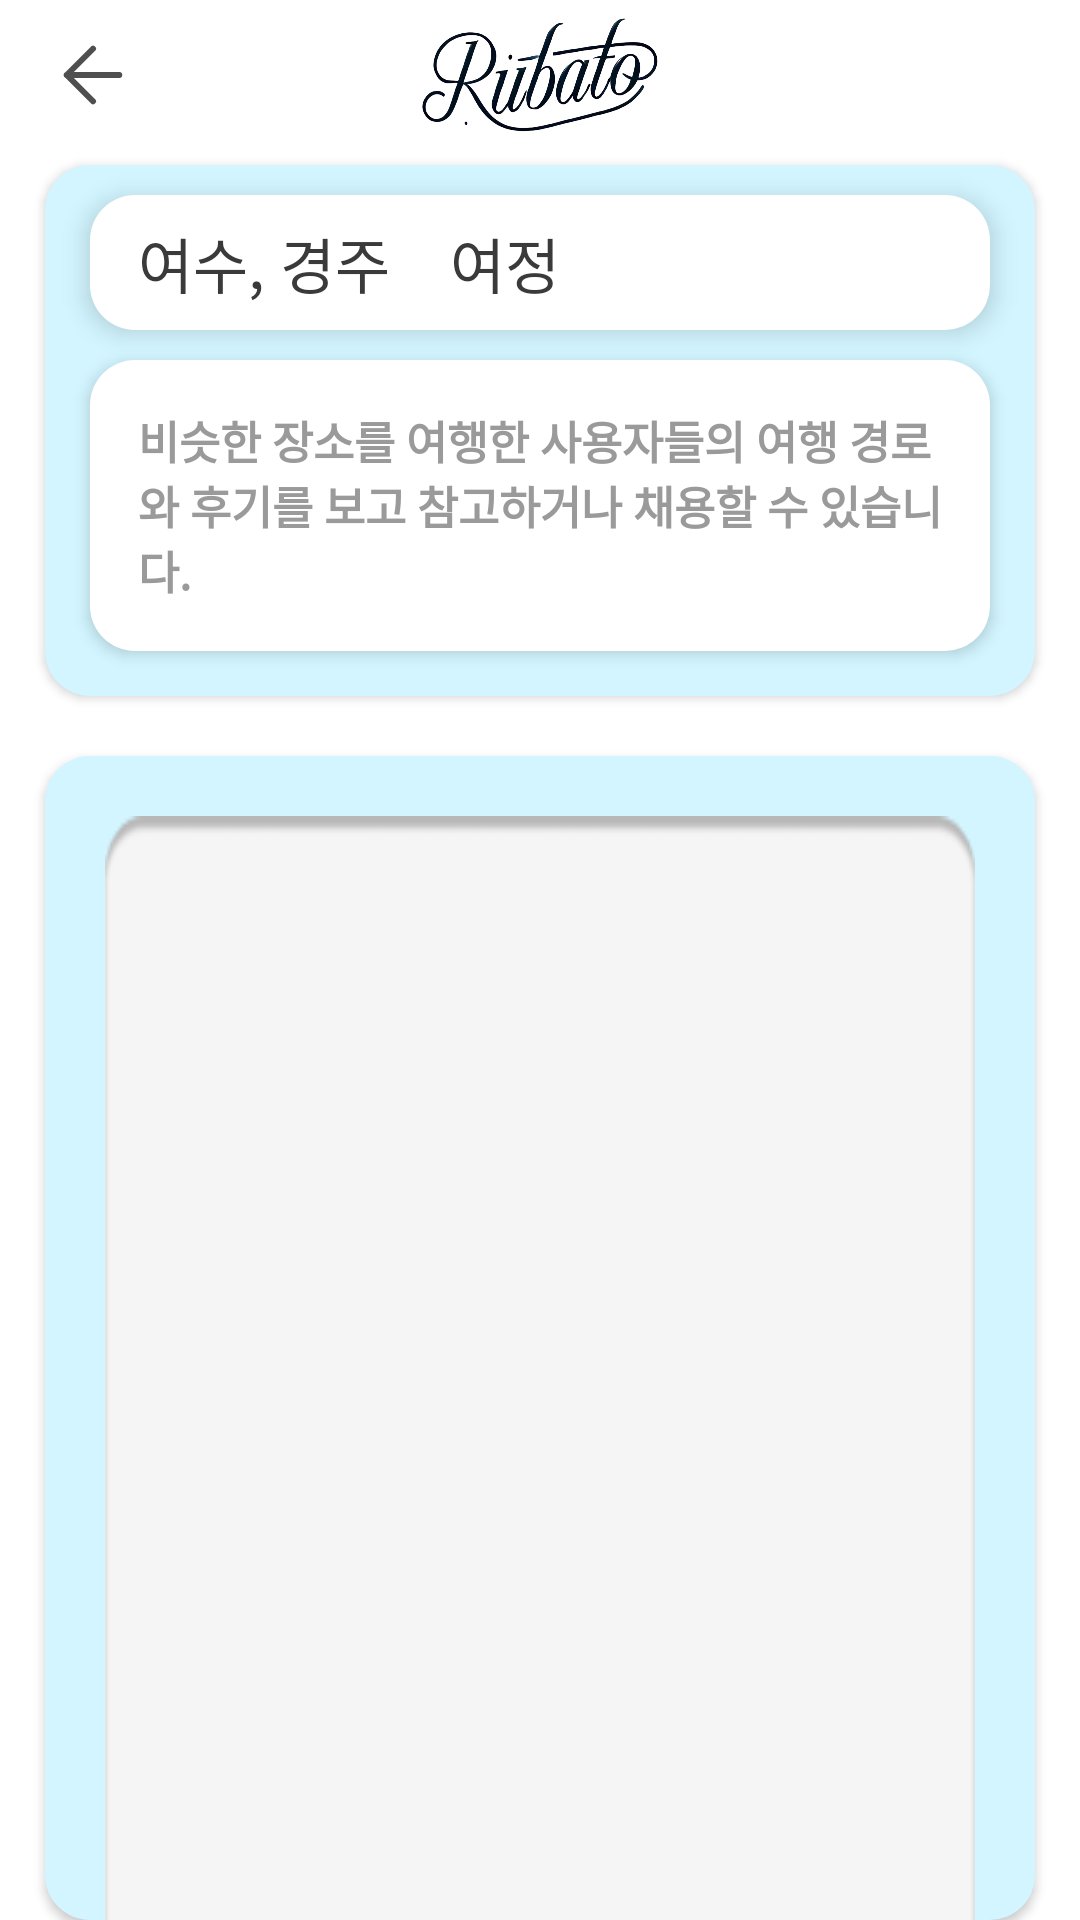

Where icons sit on this 1080w x 1920h app screen, as {"left": x1, "top": y1, "right": x2, "bottom": y2}:
back arrow: {"left": 63, "top": 45, "right": 123, "bottom": 105}
